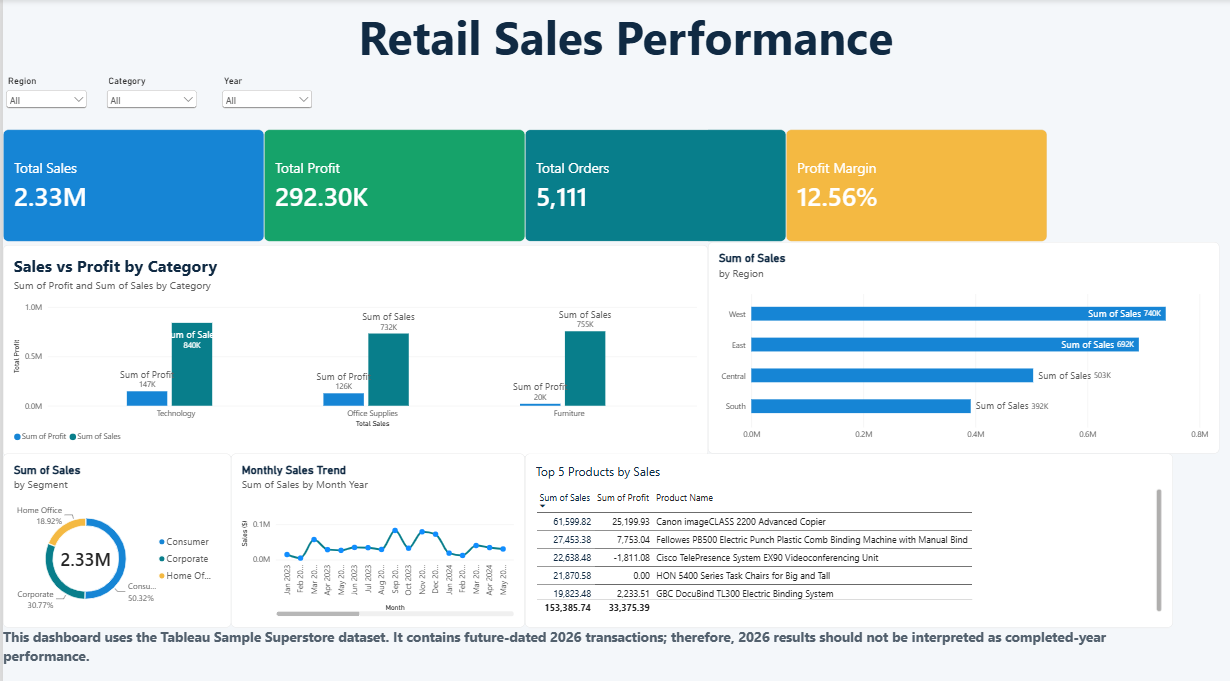

This screenshot's page, from the dashboard's own definition file:
{"tool":"powerbi","page":{"name":"Page 1","canvas":[1920,1080],"ordinal":0},"visuals":[{"type":"cardVisual","fields":{"Data":["Orders.Total Sales"]},"box":[0,204,408.2,175.7],"z":0},{"type":"textbox","box":[28.3,8.5,1890.7,175.7],"z":1},{"type":"cardVisual","fields":{"Data":["Orders.Total Profit"]},"box":[407.9,204,408.2,175.7],"z":2},{"type":"cardVisual","fields":{"Data":["Orders.Total Orders"]},"box":[815.9,204,408.2,175.7],"z":3},{"type":"cardVisual","fields":{"Data":["Orders.Profit Margin"]},"box":[1223.8,204,408.2,175.7],"z":4},{"type":"clusteredColumnChart","title":"Sales vs Profit by Category","fields":{"Category":["Orders.Category"],"Y":["Sum(Orders.Profit)","Sum(Orders.Sales)"]},"box":[0,384.5,1101.9,330.6],"z":5},{"type":"clusteredBarChart","fields":{"Category":["Orders.Region"],"Y":["Sum(Orders.Sales)"]},"box":[1101.9,379.8,799.5,330.6],"z":6},{"type":"donutChart","fields":{"Category":["Orders.Segment"],"Y":["Sum(Orders.Sales)"]},"box":[0,710.4,356.4,272],"z":7},{"type":"lineChart","title":"Monthly Sales Trend","fields":{"Category":["Orders.Month Year"],"Y":["Sum(Orders.Sales)"]},"box":[356.4,710.4,459.5,272],"z":8},{"type":"tableEx","title":"Top 5 Products by Sales","fields":{"Values":["Sum(Orders.Sales)","Sum(Orders.Profit)","Orders.Product Name"]},"box":[815.9,710.4,1012.8,272],"z":9},{"type":"slicer","fields":{"Values":["Orders.Order Date.Variation.Date Hierarchy.Year"]},"box":[337.6,119.6,150,176],"z":10},{"type":"slicer","fields":{"Values":["Orders.Category"]},"box":[157.1,119.6,150,143],"z":11},{"type":"slicer","fields":{"Values":["Orders.Region"]},"box":[0,119.6,136,84.4],"z":12},{"type":"textbox","box":[0,982.3,1765.4,68],"z":13}]}

Visuals, with their boxes in screenshot pixels (x1, y1, x2, y2), scaled from the page's 1920x1080 canvas onto the 1230x681 screenshot:
cardVisual - Orders.Total Sales: {"x1": 0, "y1": 129, "x2": 262, "y2": 239}
textbox: {"x1": 18, "y1": 5, "x2": 1229, "y2": 116}
cardVisual - Orders.Total Profit: {"x1": 261, "y1": 129, "x2": 523, "y2": 239}
cardVisual - Orders.Total Orders: {"x1": 523, "y1": 129, "x2": 784, "y2": 239}
cardVisual - Orders.Profit Margin: {"x1": 784, "y1": 129, "x2": 1046, "y2": 239}
"Sales vs Profit by Category" clusteredColumnChart: {"x1": 0, "y1": 242, "x2": 706, "y2": 451}
clusteredBarChart - Orders.Region x Sum(Orders.Sales): {"x1": 706, "y1": 239, "x2": 1218, "y2": 448}
donutChart - Orders.Segment x Sum(Orders.Sales): {"x1": 0, "y1": 448, "x2": 228, "y2": 619}
"Monthly Sales Trend" lineChart: {"x1": 228, "y1": 448, "x2": 523, "y2": 619}
"Top 5 Products by Sales" tableEx: {"x1": 523, "y1": 448, "x2": 1172, "y2": 619}
slicer - Orders.Order Date.Variation.Date Hierarchy.Year: {"x1": 216, "y1": 75, "x2": 312, "y2": 186}
slicer - Orders.Category: {"x1": 101, "y1": 75, "x2": 197, "y2": 166}
slicer - Orders.Region: {"x1": 0, "y1": 75, "x2": 87, "y2": 129}
textbox: {"x1": 0, "y1": 619, "x2": 1131, "y2": 662}
